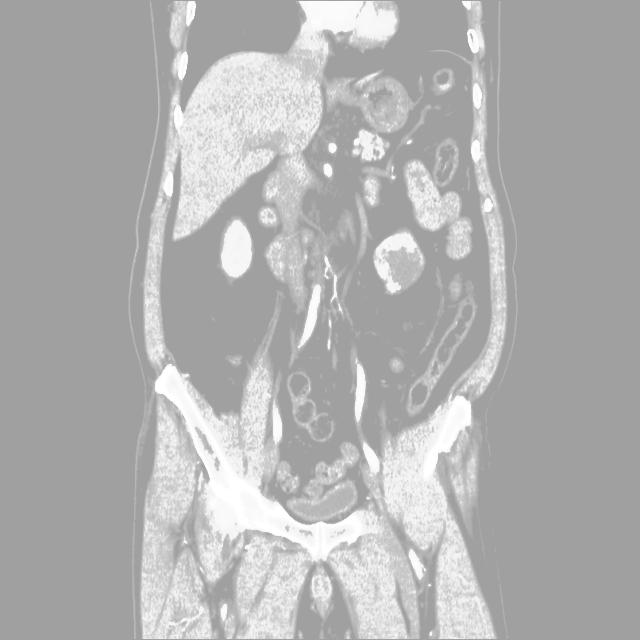TUMOR: (170, 198, 451, 343)
